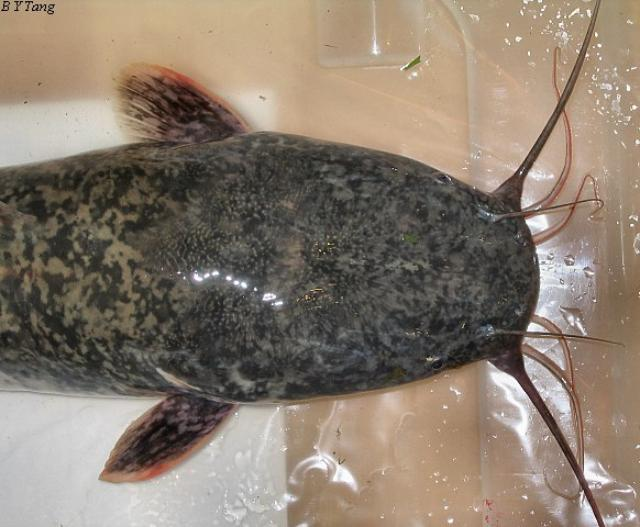Sirip Dada: (82, 48, 281, 527)
